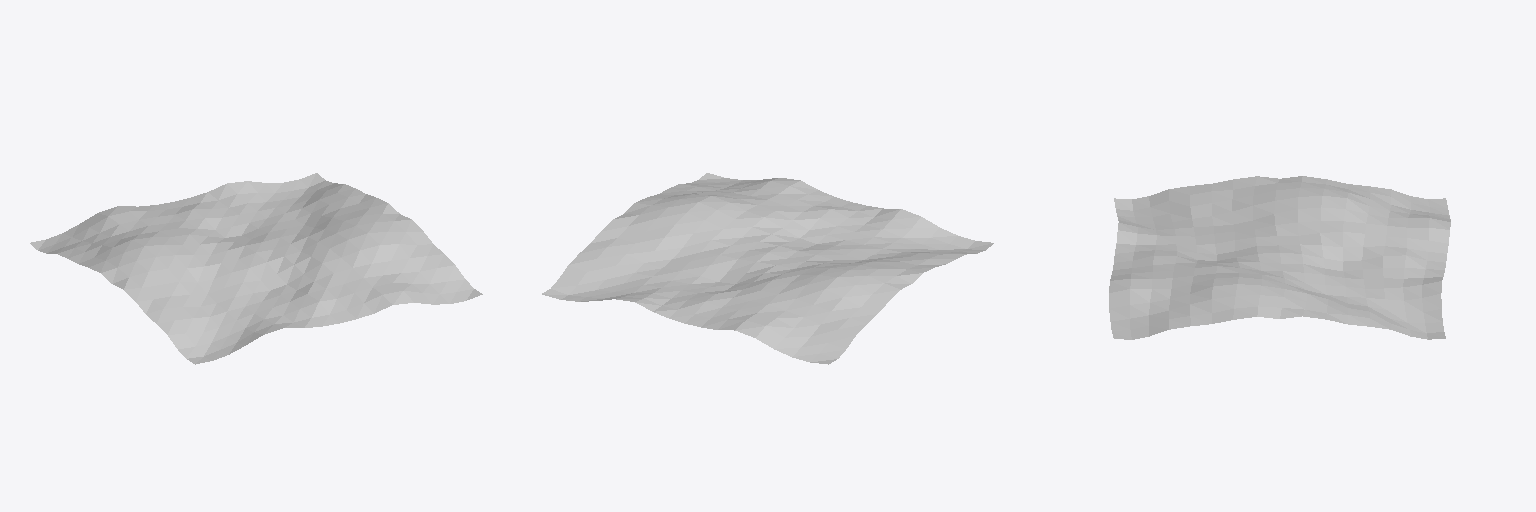
Rendered from water_000048.obj.
3 renders of one model, left to right at view 1: azimuth 30°, elevation 25°; view 2: azimuth 150°, elevation 25°; view 3: azimuth 270°, elevation 25°, orthographic.
Visible parts, largest first — view 1: Plan.003_Plan.001; view 2: Plan.003_Plan.001; view 3: Plan.003_Plan.001.
Boxes of the visible parts, box(x1,y1,x2,y2) form: Plan.003_Plan.001: box(30, 173, 482, 364); Plan.003_Plan.001: box(542, 173, 993, 364); Plan.003_Plan.001: box(1109, 176, 1450, 339).
Bounding box in the file's own units: 60485 × 6483 × 62082.